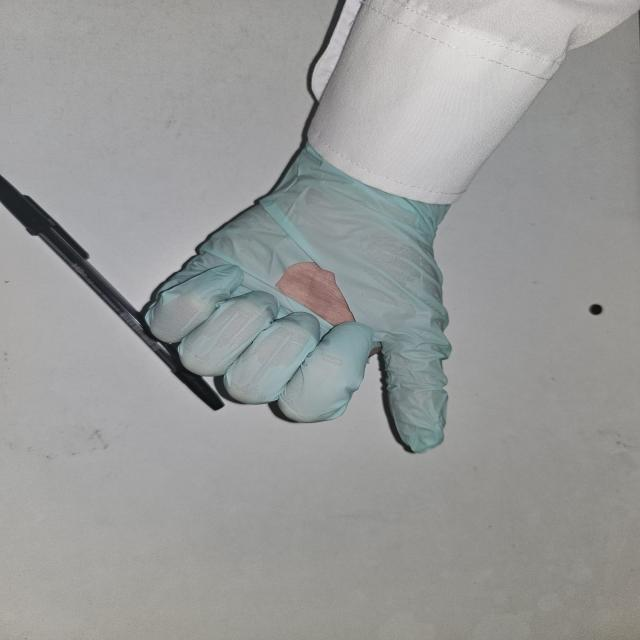gloves_damaged: (143, 159, 457, 454)
